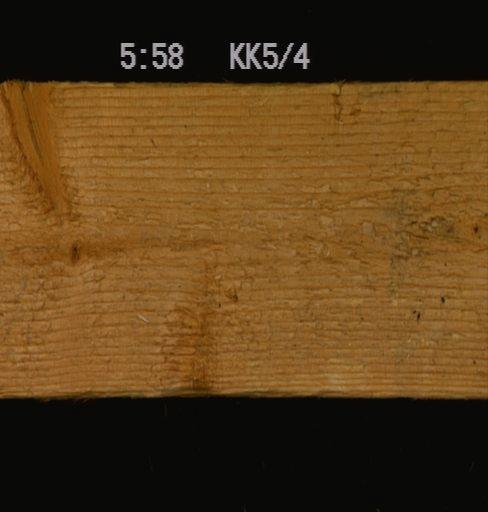small_knot: (65, 231, 83, 269), (467, 218, 483, 237)
wave: (59, 372, 384, 396)
